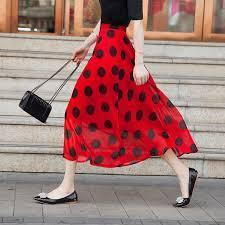skirt: (57, 22, 199, 180)
